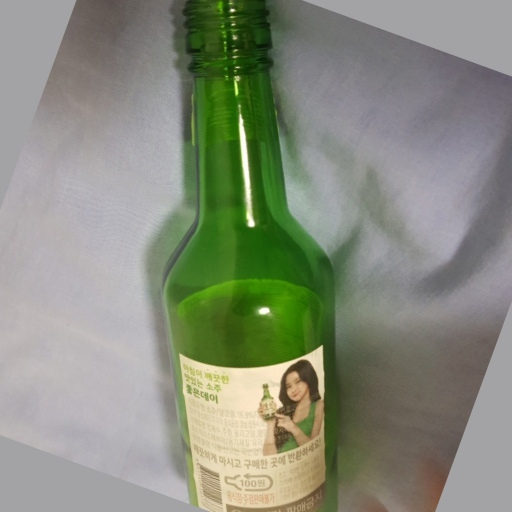Glass_0: (155, 1, 346, 512)
